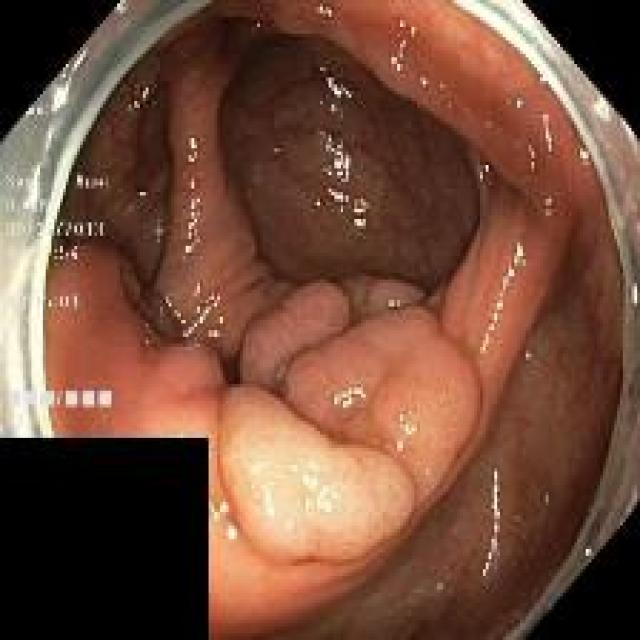Polyps: (282, 308, 480, 506), (219, 388, 415, 564), (240, 281, 351, 393), (366, 280, 426, 316)
